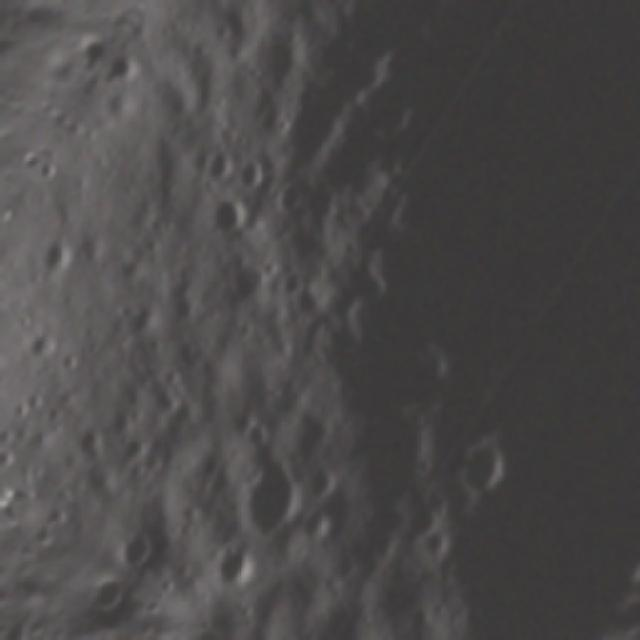crater: (213, 443, 333, 569), (436, 428, 522, 520), (100, 512, 174, 586), (190, 178, 264, 252), (104, 287, 171, 358), (94, 36, 160, 104), (24, 227, 87, 291), (261, 170, 322, 236), (65, 411, 122, 469), (334, 0, 391, 15)
